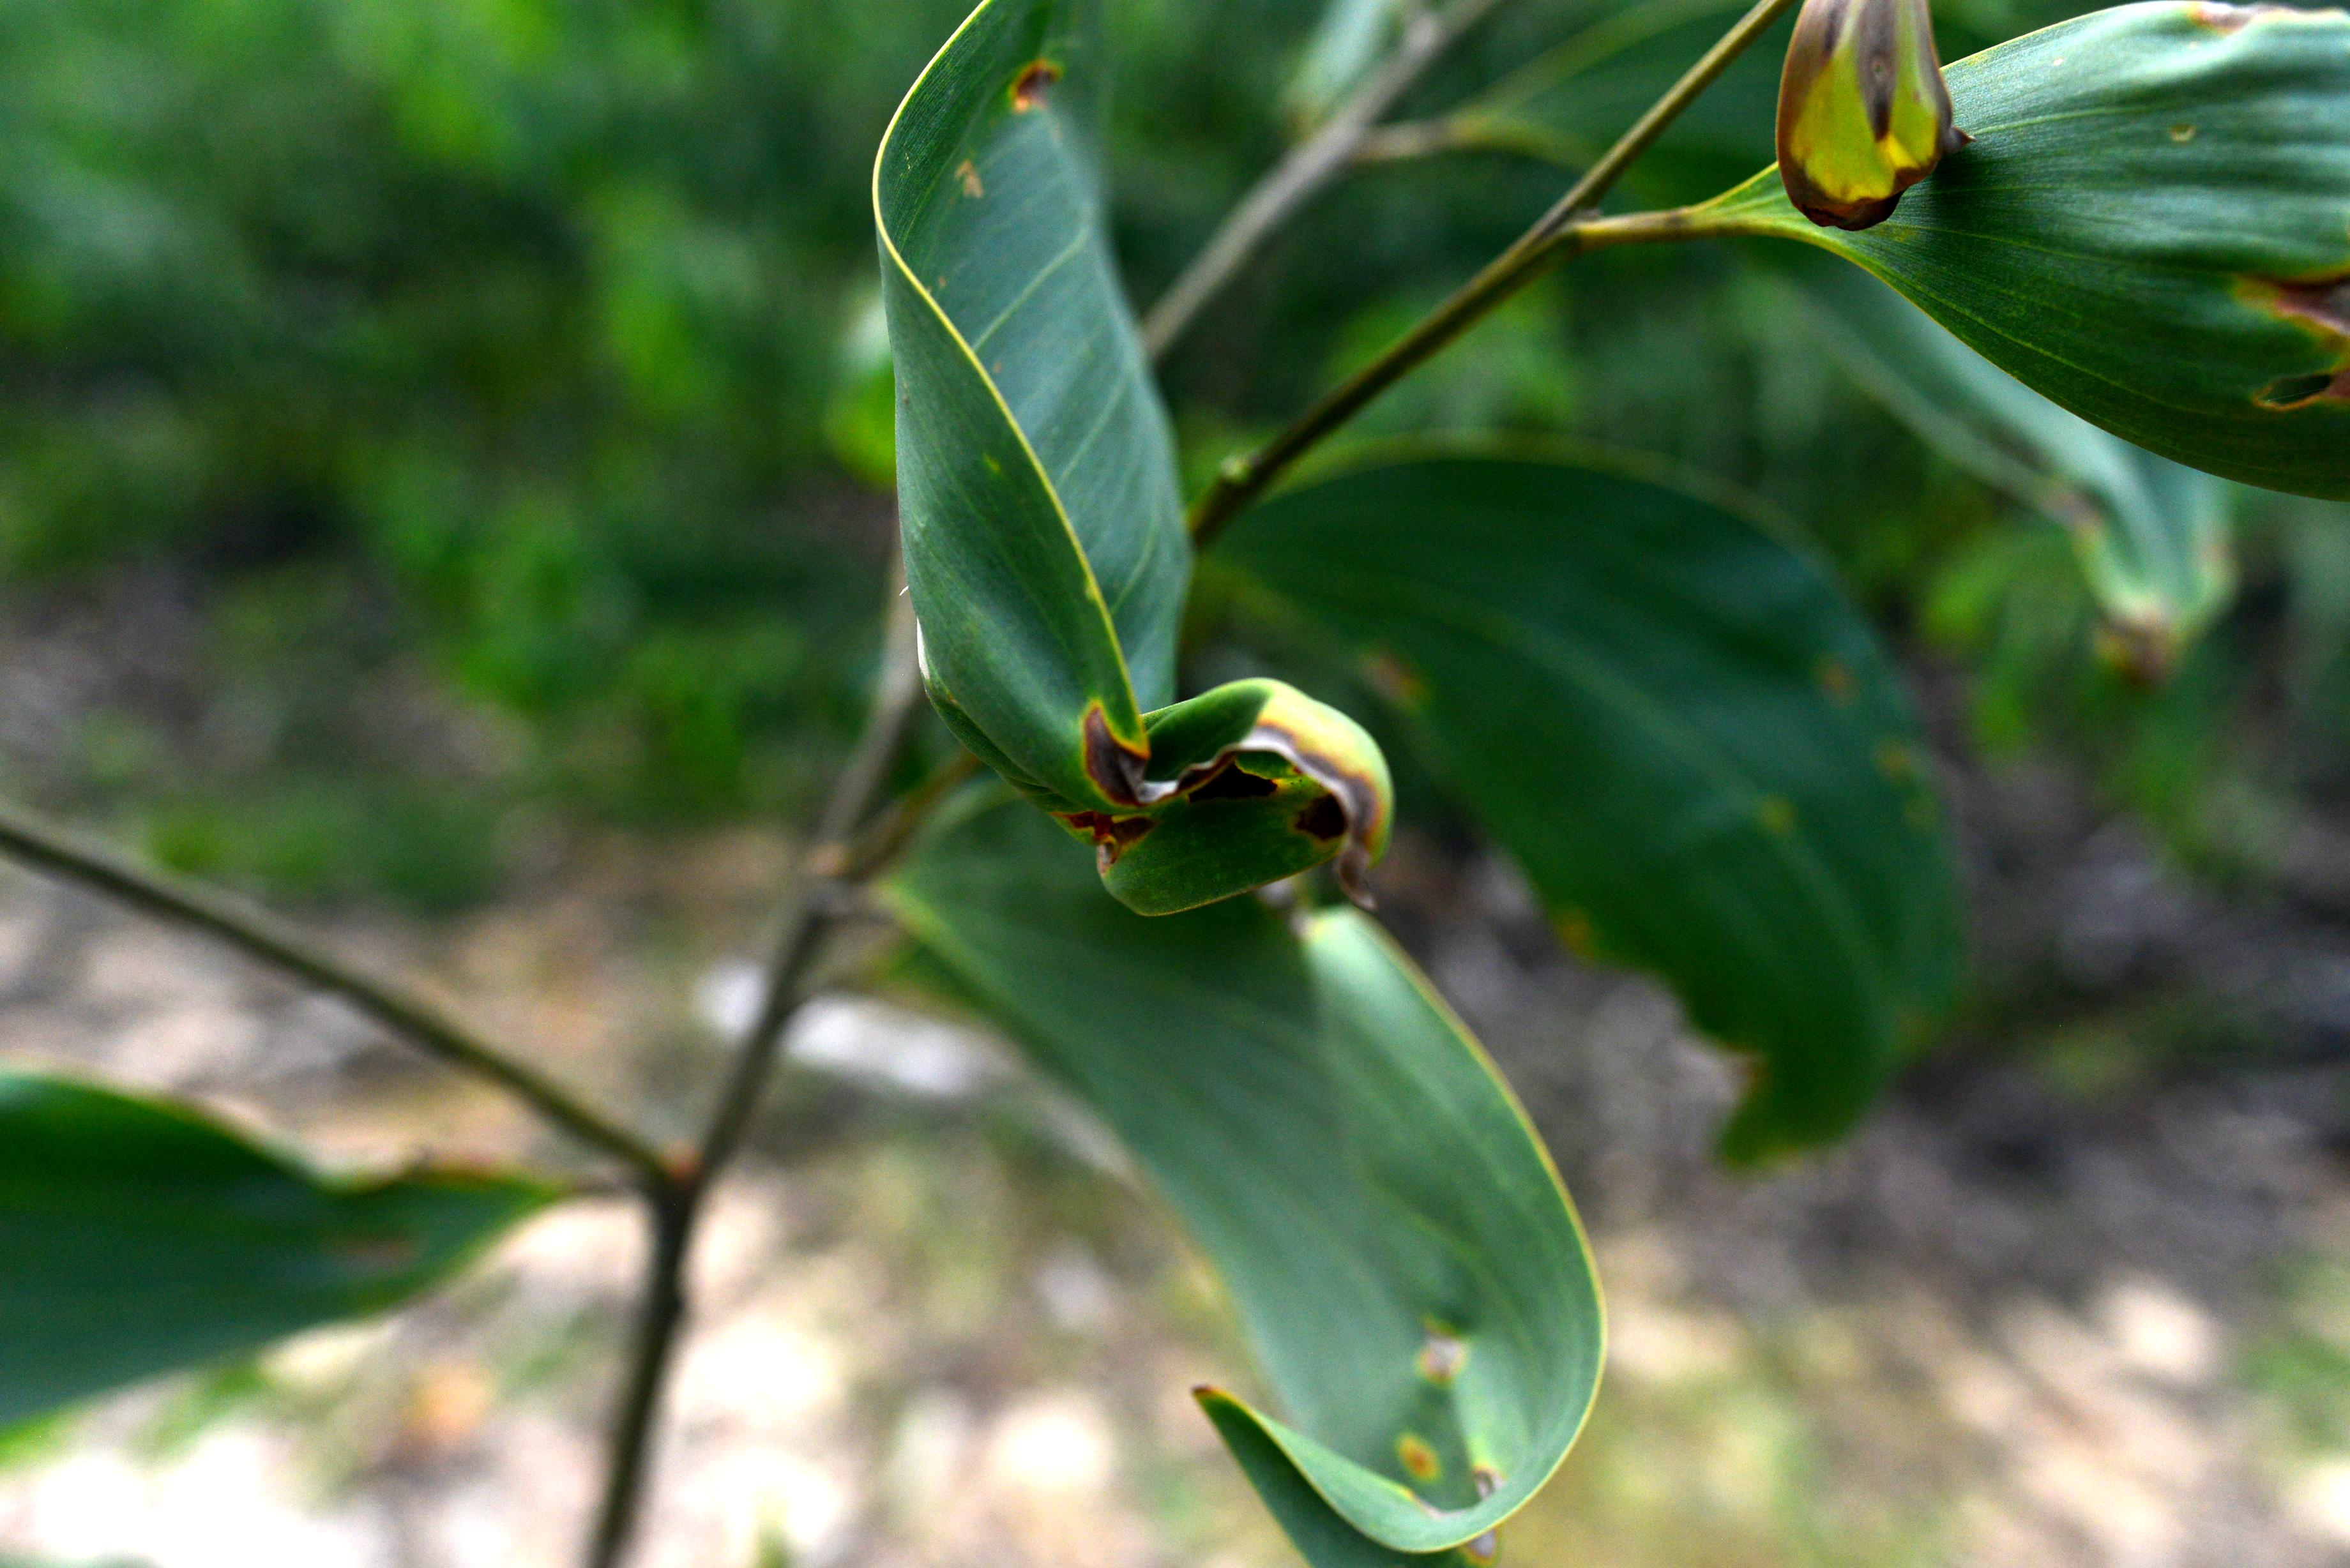Pasalora: (850, 3, 1403, 919), (891, 924, 1655, 1559), (1591, 0, 2350, 486), (1776, 0, 1960, 231)
